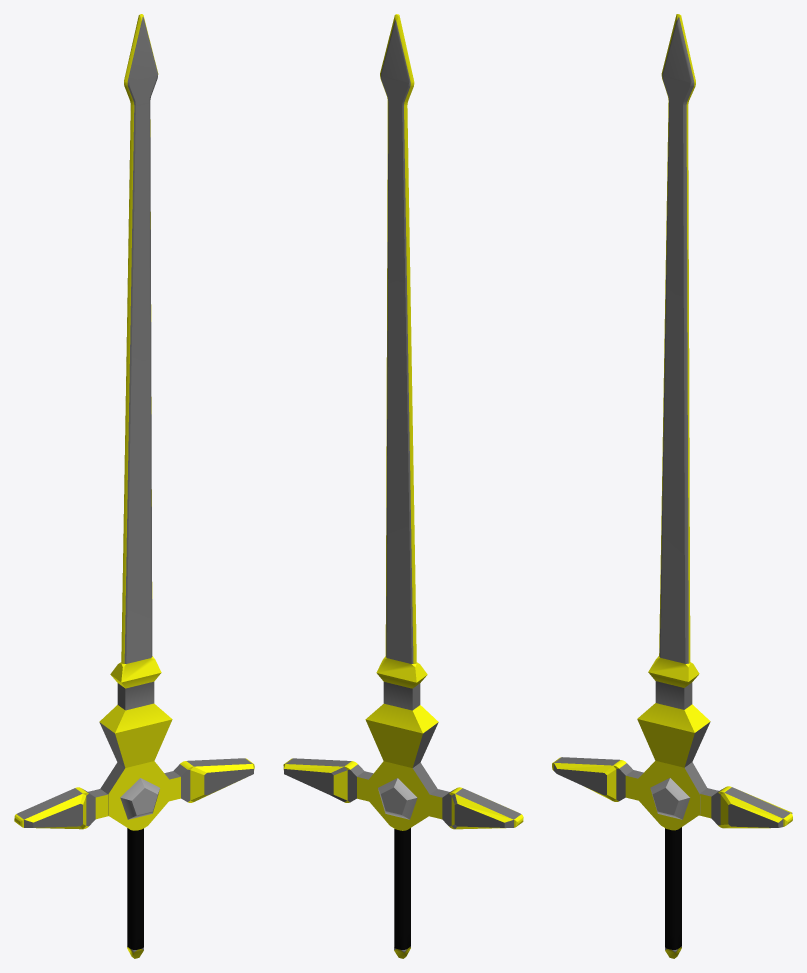
The model's file is arma.fbx.
3 views of the same model, side by side, from view 1: azimuth 30°, elevation 25°; view 2: azimuth 150°, elevation 25°; view 3: azimuth 330°, elevation 25° (orthographic).
Visible parts, largest first — view 1: pCube2, pCube4, pCylinder1; view 2: pCube2, pCube4, pCylinder1; view 3: pCube2, pCube4, pCylinder1.
Part boxes in pixels (x1,y1,x2,y2): pCube2: (99,14,172,958); pCube4: (14,758,254,829); pCylinder1: (120,778,159,819); pCube2: (365,14,438,958); pCube4: (283,758,523,829); pCylinder1: (378,778,417,819); pCube2: (637,14,710,958); pCube4: (552,757,792,828); pCylinder1: (650,778,690,819).
Size of the model in its own units: 3.05 by 11.67 by 0.3694.
